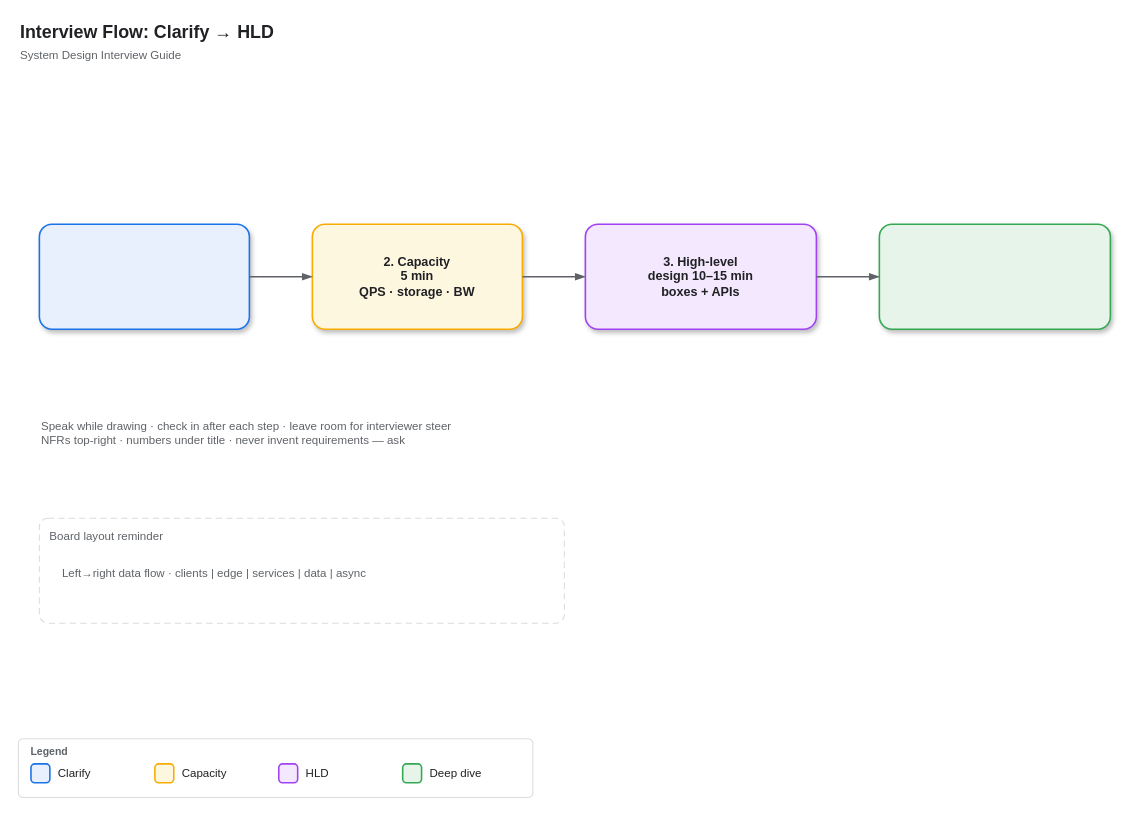
Some shapes in this 1136 by 816 pixel diagram are drawn without their labels. The shapes that lost their labels are listed below. From the top down, each one's centre as x and y in pixels, then its label:
At [145,278]: "1. Clarify 5–8 min users · scale · NFRs".
At [995,278]: "4. Deep dive + failures 10 min tradeoffs · SLO".
